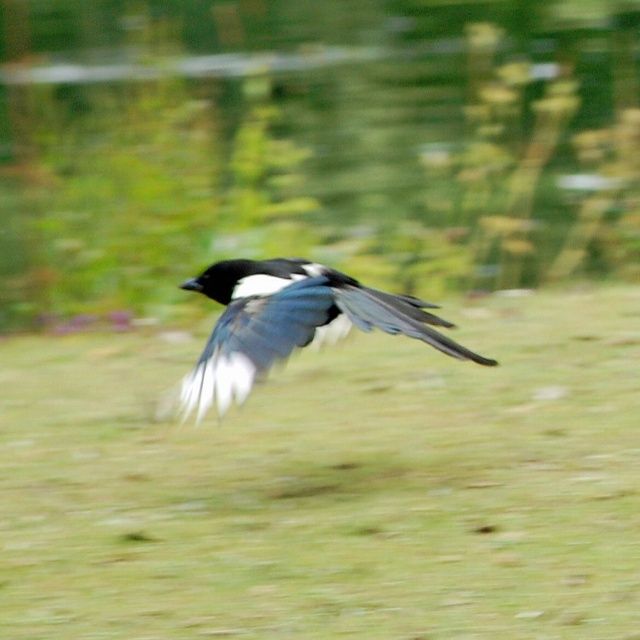Magpie: (153, 258, 500, 434)
